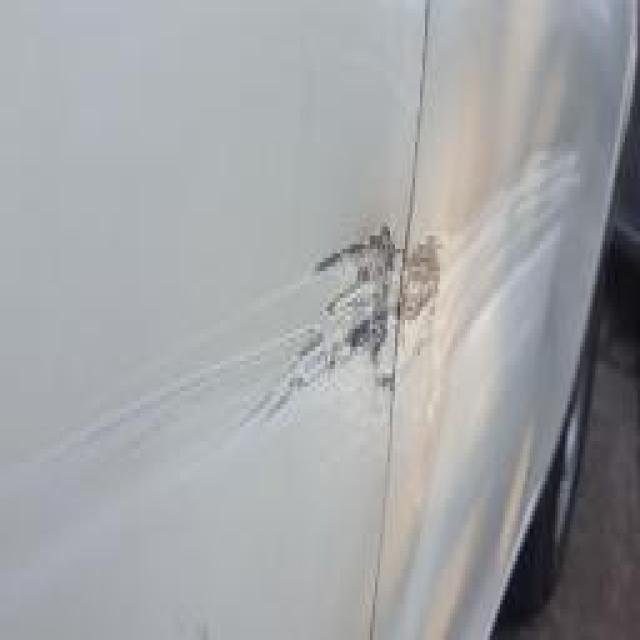Door: (10, 209, 398, 564), (402, 133, 598, 431)
